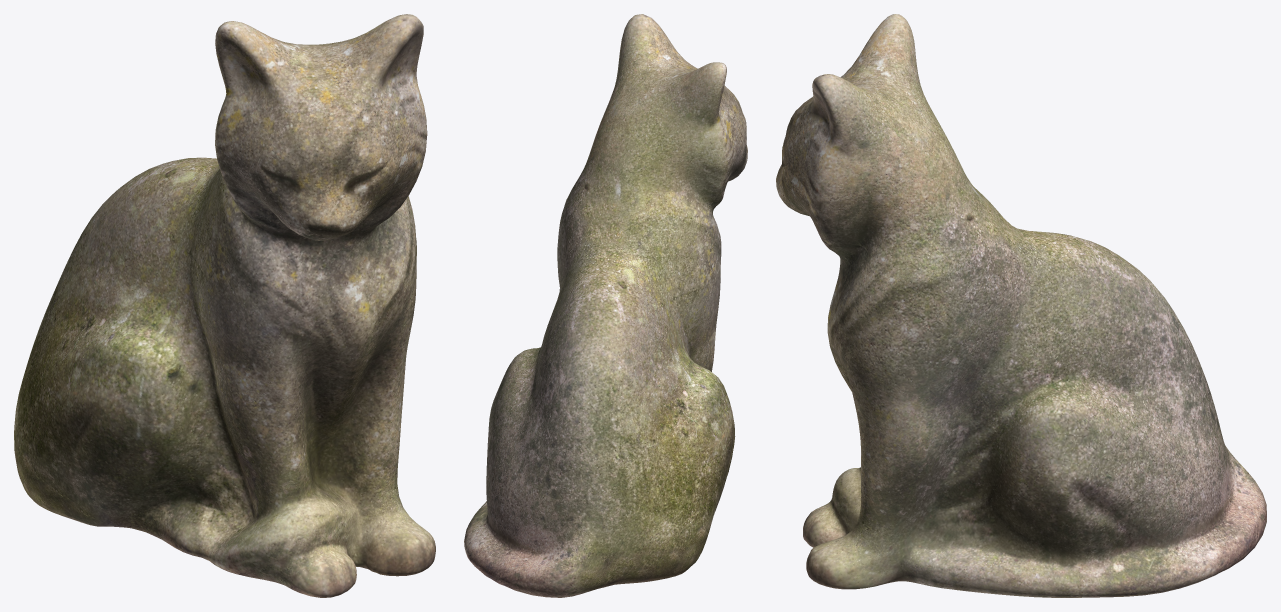
The model's file is concrete_cat.glb.
3 renders of one model, left to right at view 1: azimuth 30°, elevation 25°; view 2: azimuth 150°, elevation 25°; view 3: azimuth 270°, elevation 25°, orthographic. The views are drawn at different scales.
Visible parts, largest first — view 1: concrete_cat_statue_0; view 2: concrete_cat_statue_0; view 3: concrete_cat_statue_0.
Part boxes in pixels (x1,y1,x2,y2): concrete_cat_statue_0: [14, 14, 435, 597]; concrete_cat_statue_0: [464, 14, 747, 597]; concrete_cat_statue_0: [776, 14, 1266, 597].
Size of the model in its own units: 0.153 by 0.283 by 0.25.
1 material, 1 textured.
